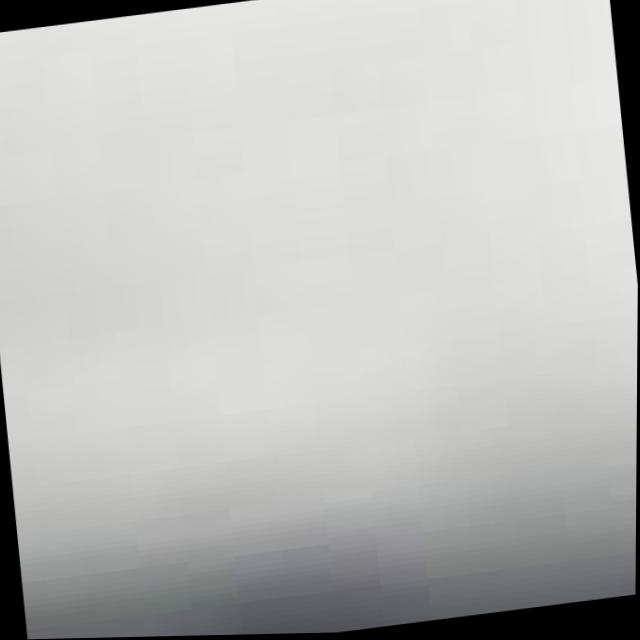metal-plates: (1, 1, 639, 640)
